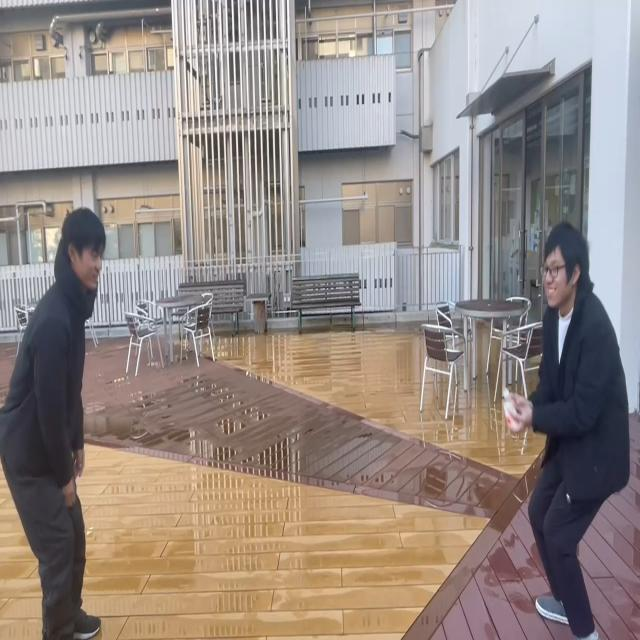bottle: (501, 385, 519, 430)
